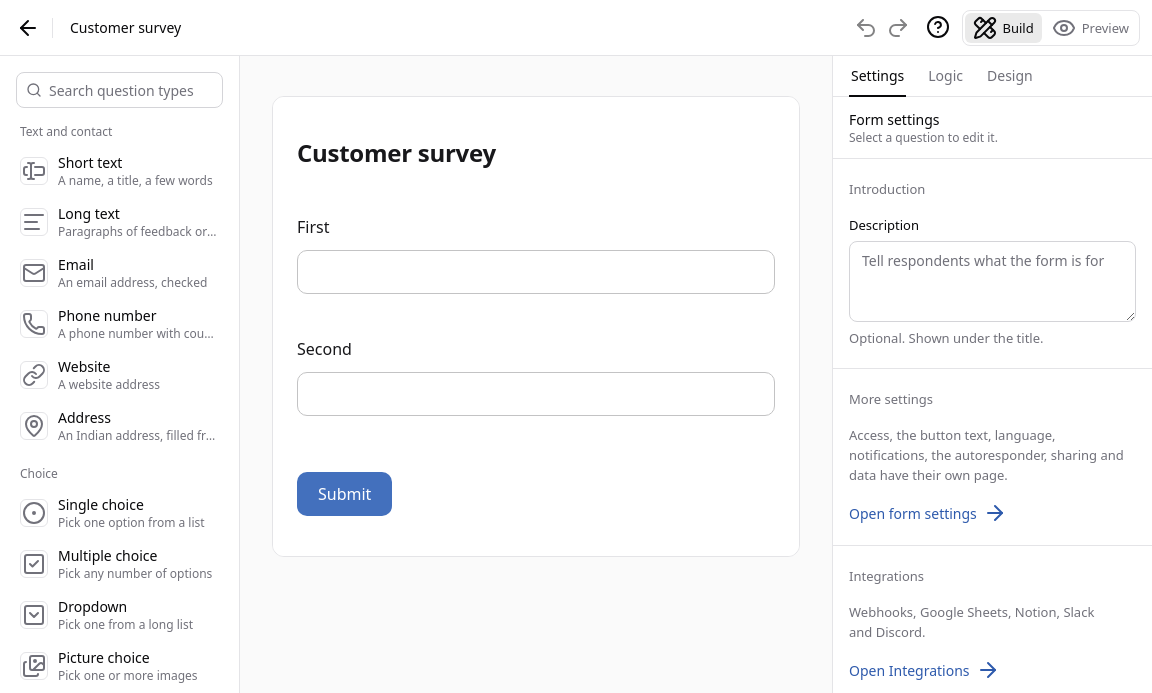
Test case: editor keyboard shortcuts › undoes the editor, not the browser, while typing in an input
Click the button named "First" at [536, 255], box [281,200,791,310]
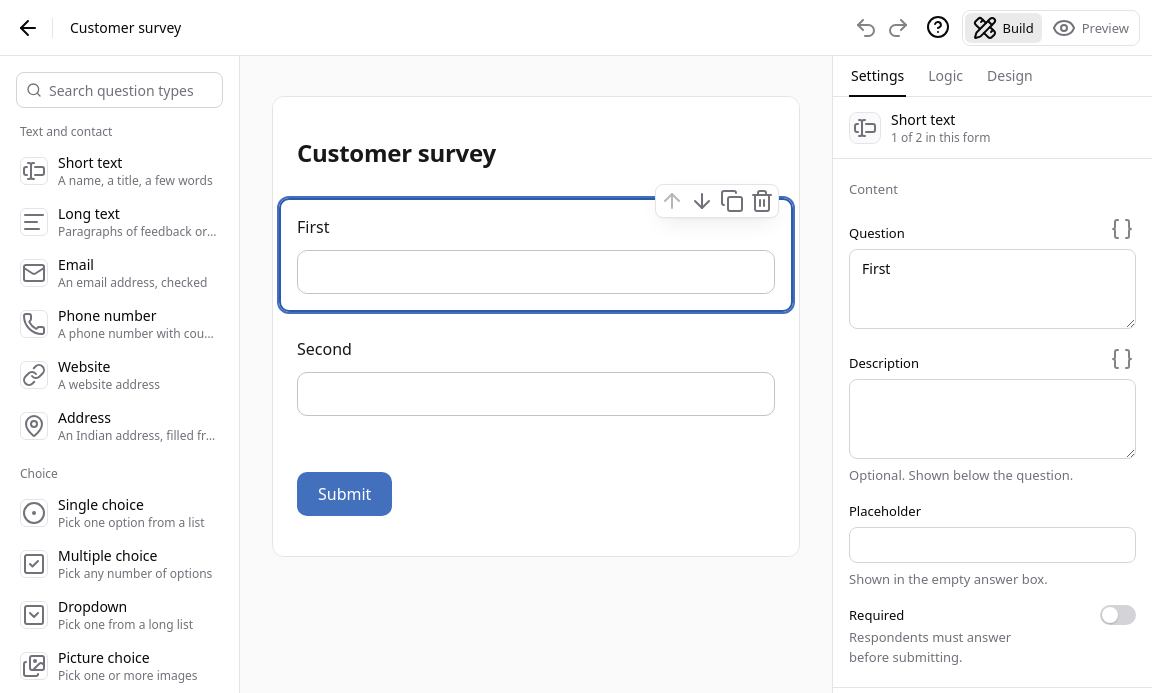
Type " question" into the text box labelled "Question" at [992, 289], box [849,249,1136,329]
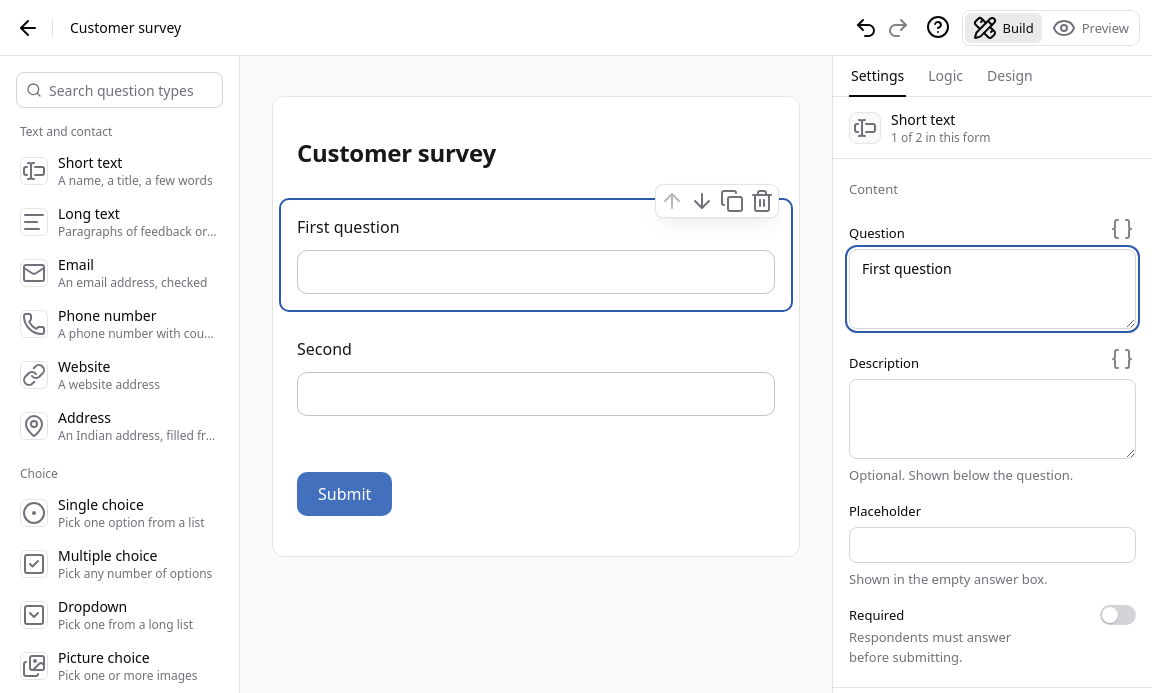
Result: the text box labelled "Question" holds "First question" at [849,249,1136,329]
Type keys "{Control>}z{/Control}"
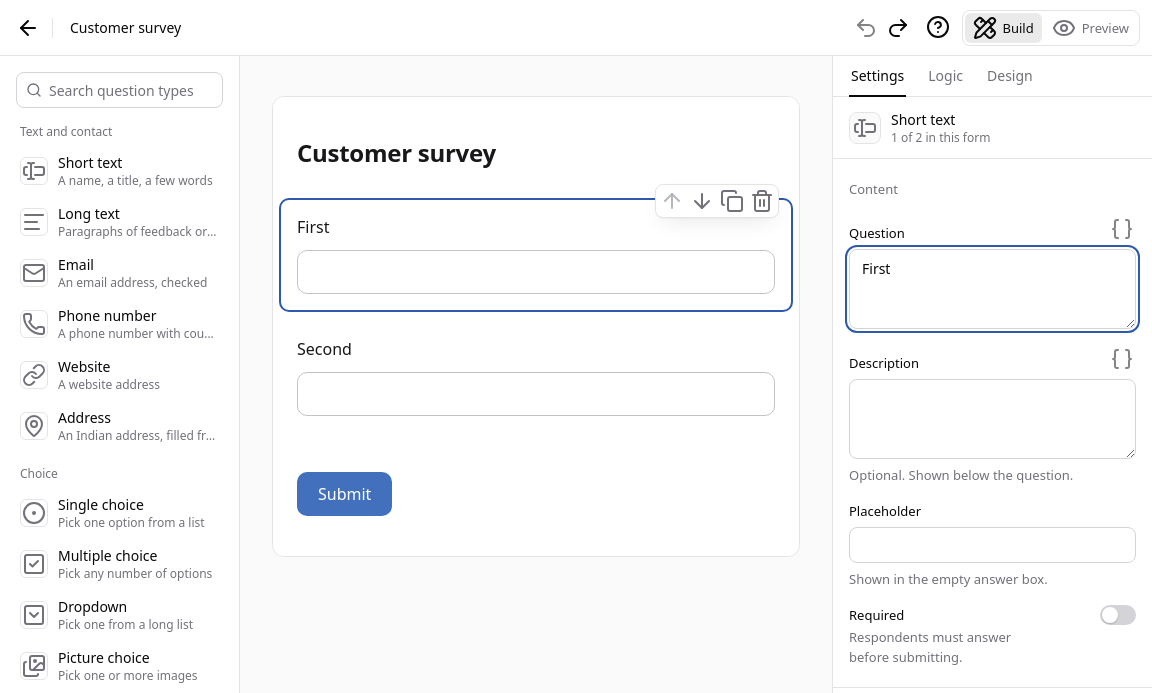
Expected: the label "First" is shown, [297,216,330,238]
Result: the text box labelled "Question" holds "First" at [849,249,1136,329]
